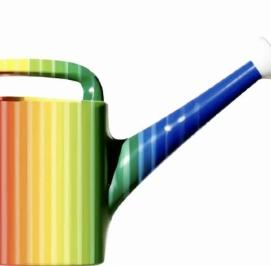ARROSOIR: (0, 15, 271, 266)
